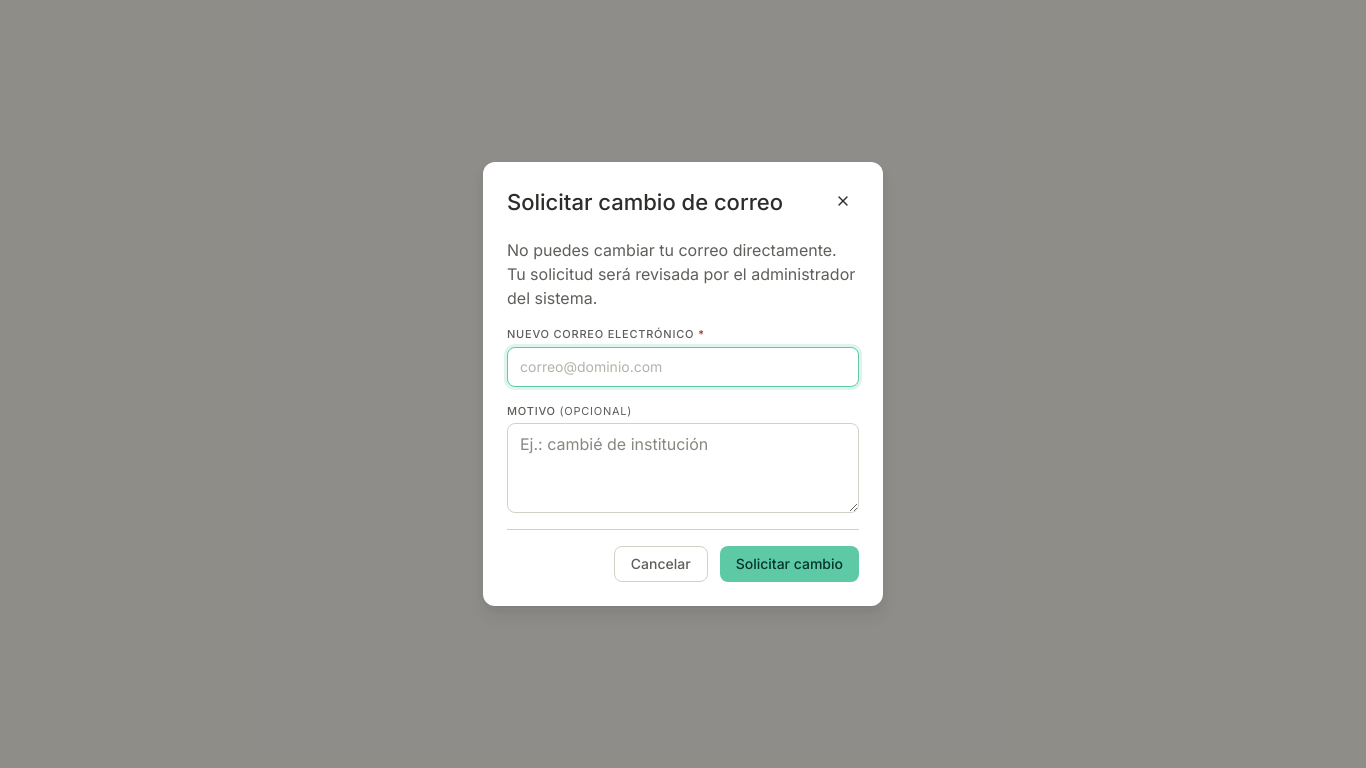
Test: SolicitarCambioCorreoModal — comportamiento › muestra error específico ante 409 EMAIL_ALREADY_EXISTS
Type "taken@x.com" into the field labelled "Nuevo correo electrónico*" at coordinates (683, 366), box [507,346,859,386]
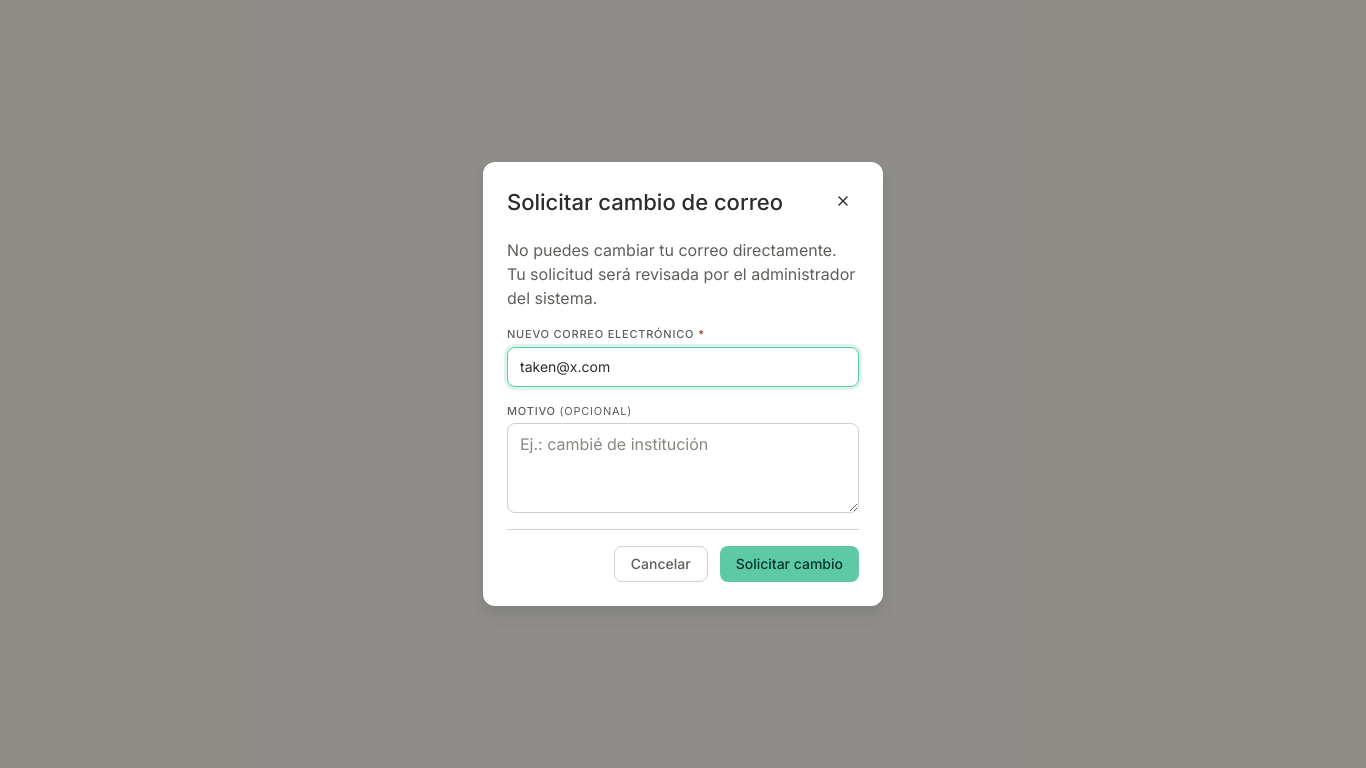
Click the button "Solicitar cambio" at coordinates (789, 564), box [720,546,859,582]
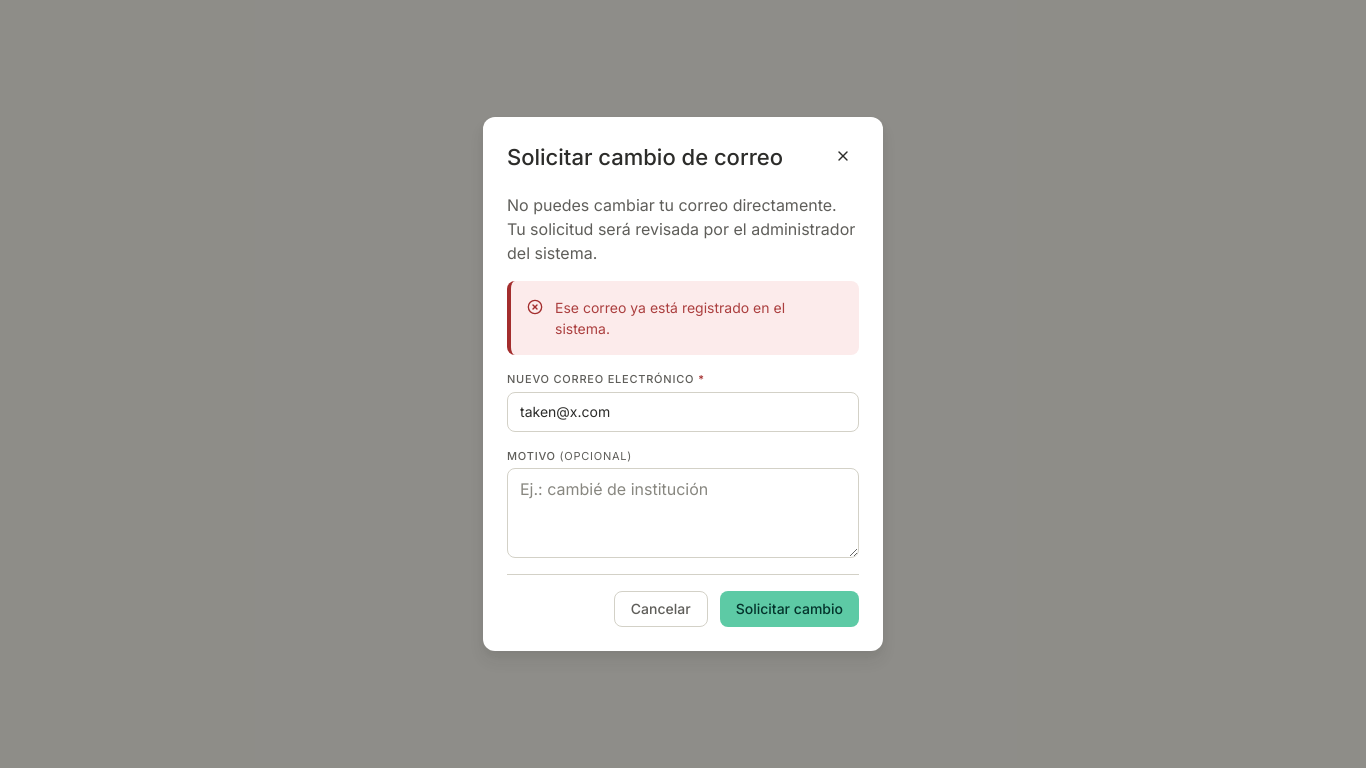
Now the text "Ese correo ya está registrado en el sistema." is shown, box [555,299,785,337]
